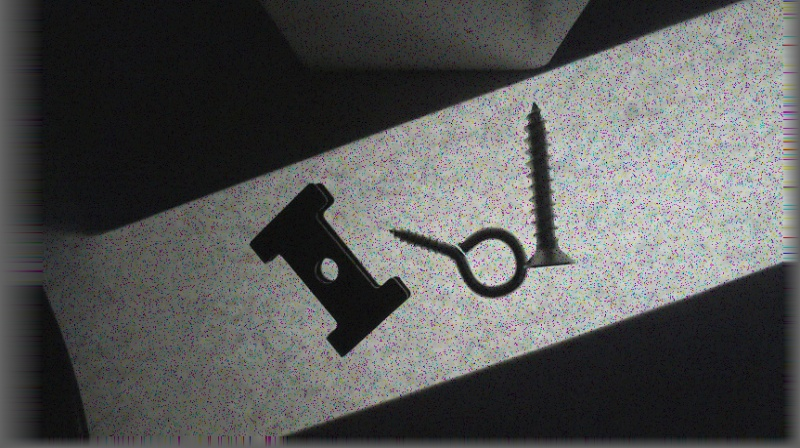O001: (389, 225, 527, 300)
O002: (247, 181, 414, 360)
S001: (518, 99, 576, 272)
